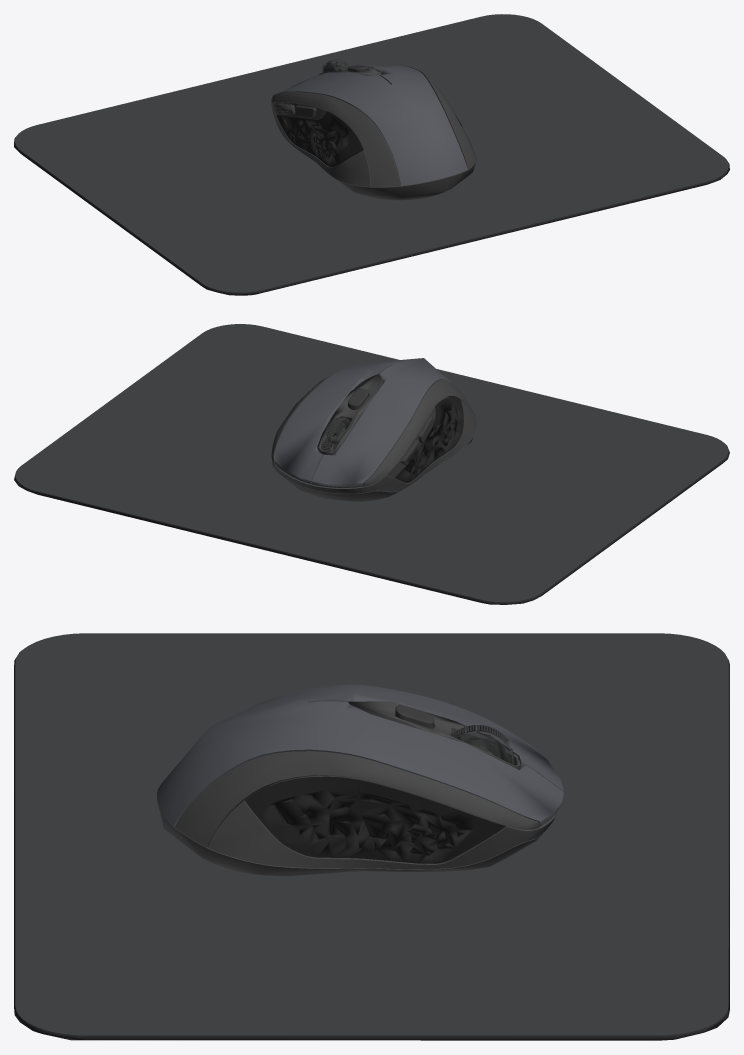
The model's file is computer_mouse_office_b01.glb.
3 views of the same model, one above another, from view 1: azimuth 30°, elevation 25°; view 2: azimuth 150°, elevation 25°; view 3: azimuth 270°, elevation 25° (orthographic). The views are drawn at different scales.
Parts seen in each view (by area): view 1: sm_computer_mouse_office_b01_01; view 2: sm_computer_mouse_office_b01_01; view 3: sm_computer_mouse_office_b01_01.
Boxes of the visible parts, x1,y1,x2,y2 form: sm_computer_mouse_office_b01_01: (14,14,729,295); sm_computer_mouse_office_b01_01: (14,324,729,604); sm_computer_mouse_office_b01_01: (14,633,729,1040).
Bounding box in the file's own units: 0.254 × 0.0408 × 0.1906.
Materials: 13 (9 with a texture image).
